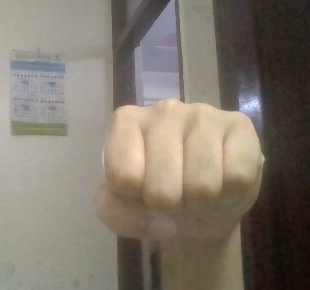click: (83, 93, 270, 264)
